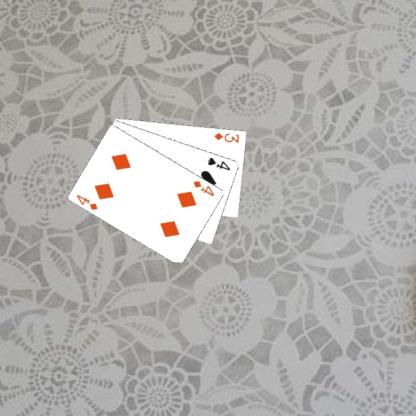3D: (211, 130, 240, 144)
4D: (191, 178, 216, 198), (74, 192, 99, 212)
4S: (205, 154, 232, 172)
